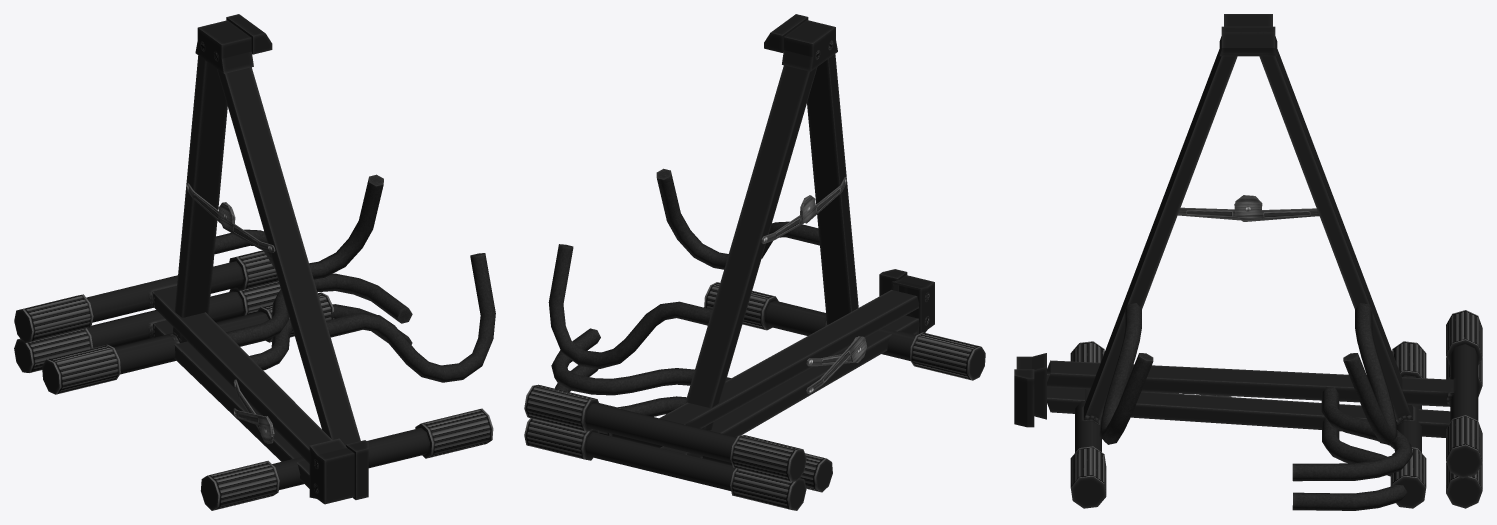
File: GuitarStand.FBX
3 renders of one model, left to right at view 1: azimuth 30°, elevation 25°; view 2: azimuth 150°, elevation 25°; view 3: azimuth 270°, elevation 25°, orthographic. The views are drawn at different scales.
Parts seen in each view (by area): view 1: GuitarStand_Opened, GuitarStand_Closed; view 2: GuitarStand_Opened, GuitarStand_Closed; view 3: GuitarStand_Opened, GuitarStand_Closed.
Boxes of the visible parts, <box> form: GuitarStand_Opened: <box>42,14,495,510</box>; GuitarStand_Closed: <box>14,250,412,504</box>; GuitarStand_Opened: <box>548,14,985,492</box>; GuitarStand_Closed: <box>524,269,934,510</box>; GuitarStand_Opened: <box>1070,14,1426,508</box>; GuitarStand_Closed: <box>1014,310,1482,510</box>.
Size of the model in its own units: 45.53 by 56.83 by 60.2.
Materials: 1 (1 with a texture image).
